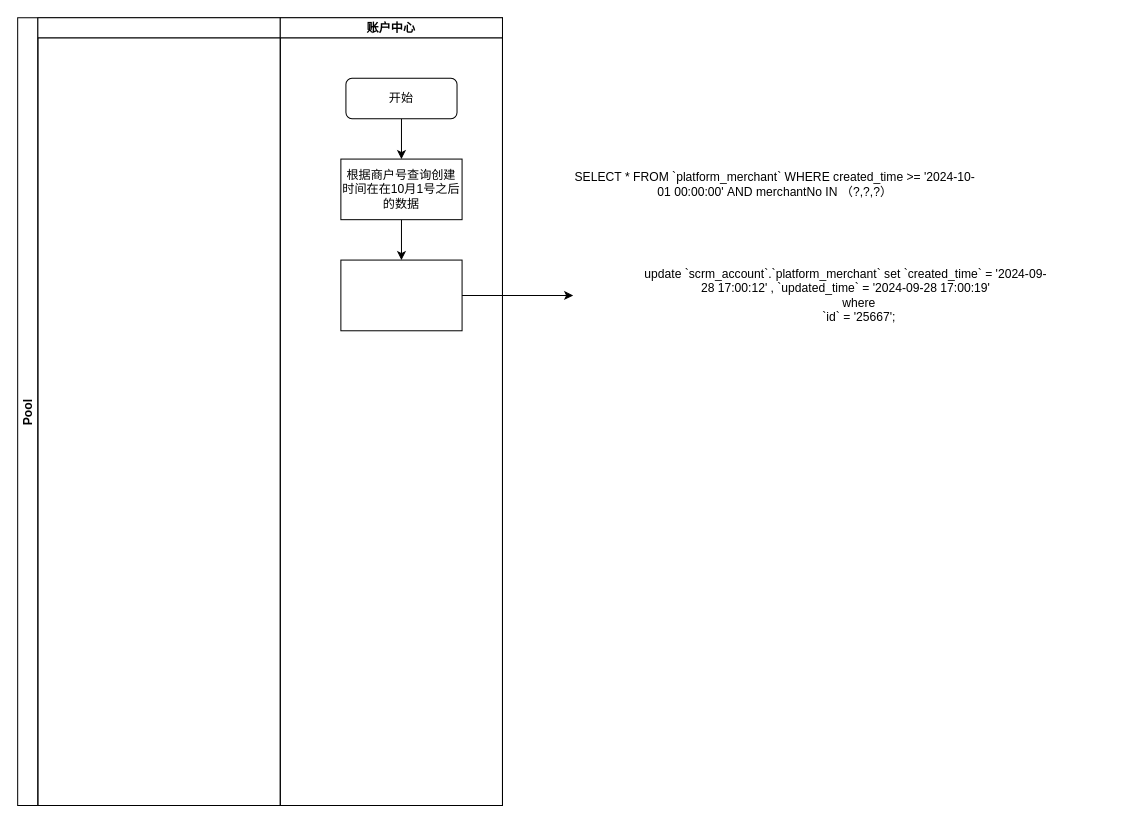
This 1136x823 diagram has some shape labels left out. The centre of each missing label's shape, as x and y in pixels:
D+智享车生活: the point at 158,411
根据id更新记录的创建时间在2024年9月25-29日 09:00-18:00之间: the point at 401,295
